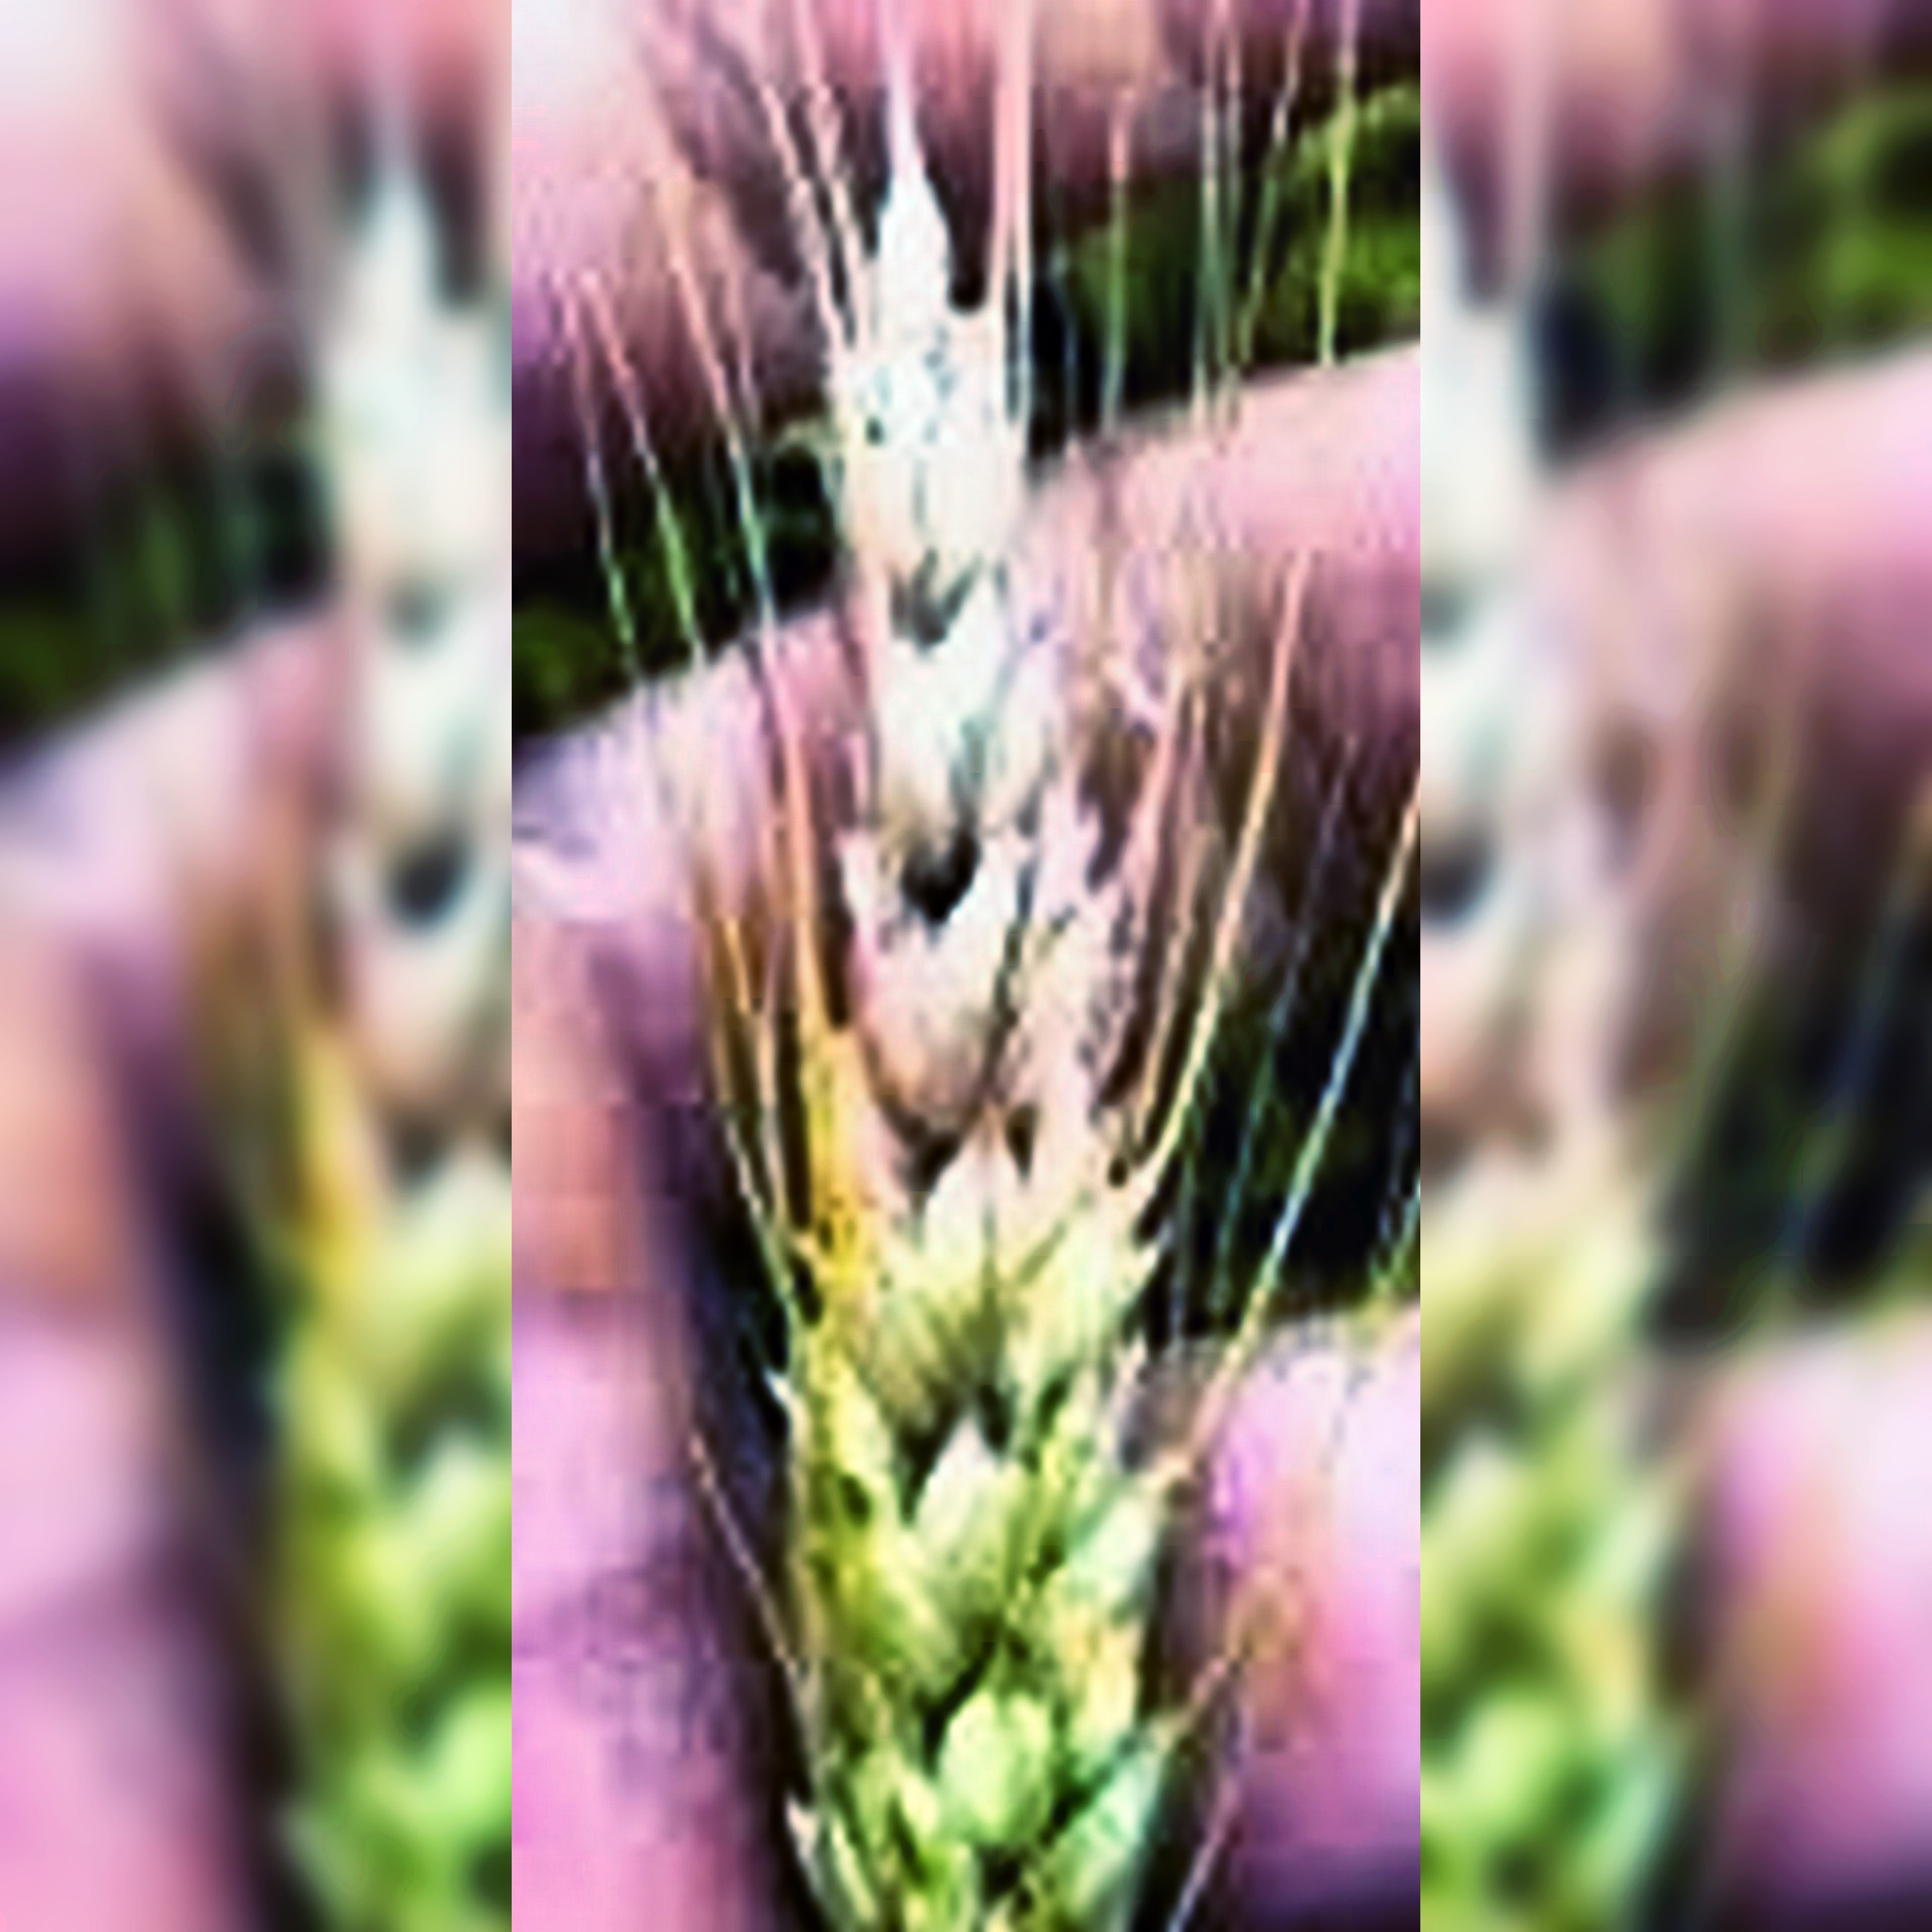Wheat scab: (708, 216, 1228, 1913)
